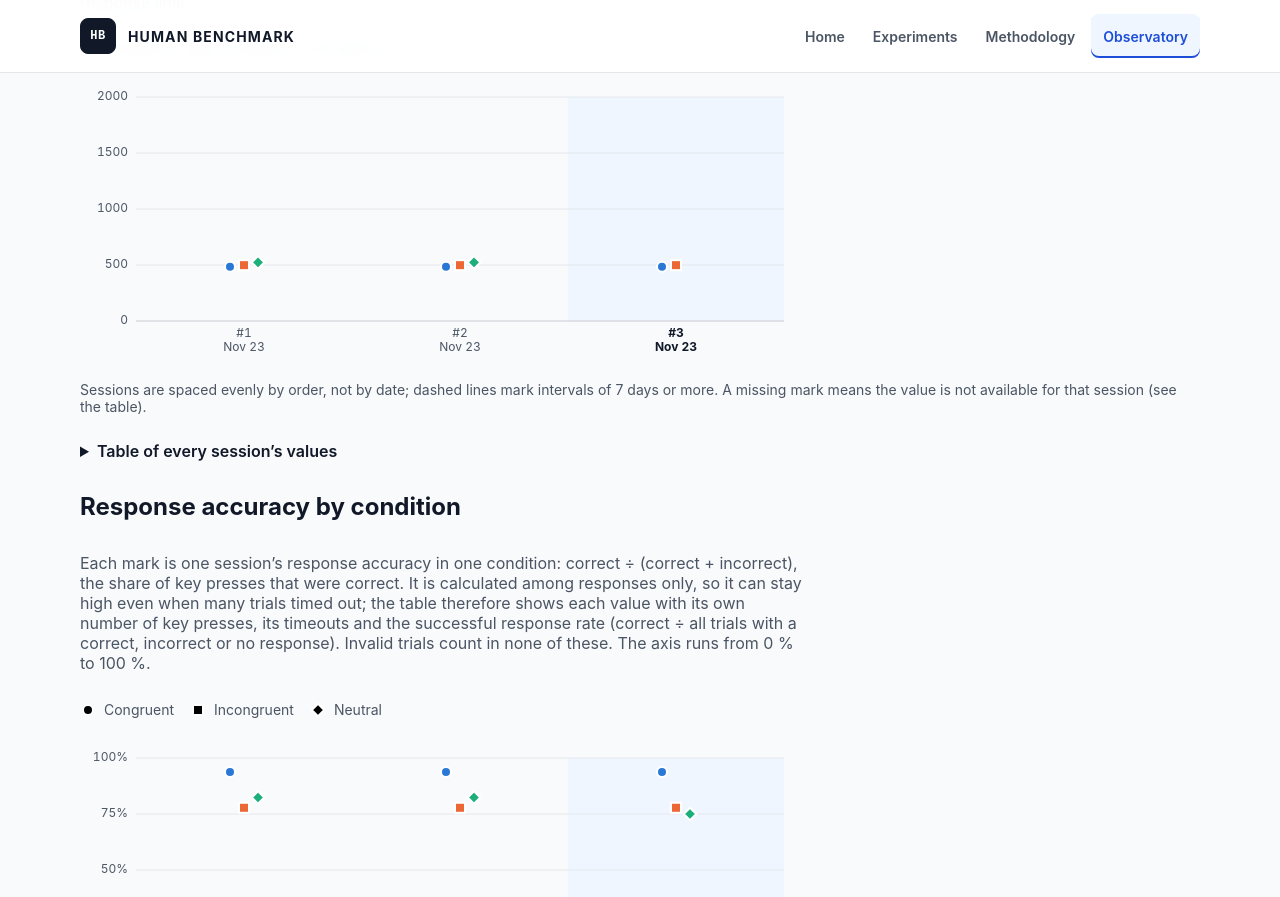
Test case: Trends: comparability › shows missing medians as not shown, never as values
The width and height of the screenshot is (1280, 897).
(page scrolled)
Click the heading "Table of every session’s values" at (217, 451), box [97,441,337,461]
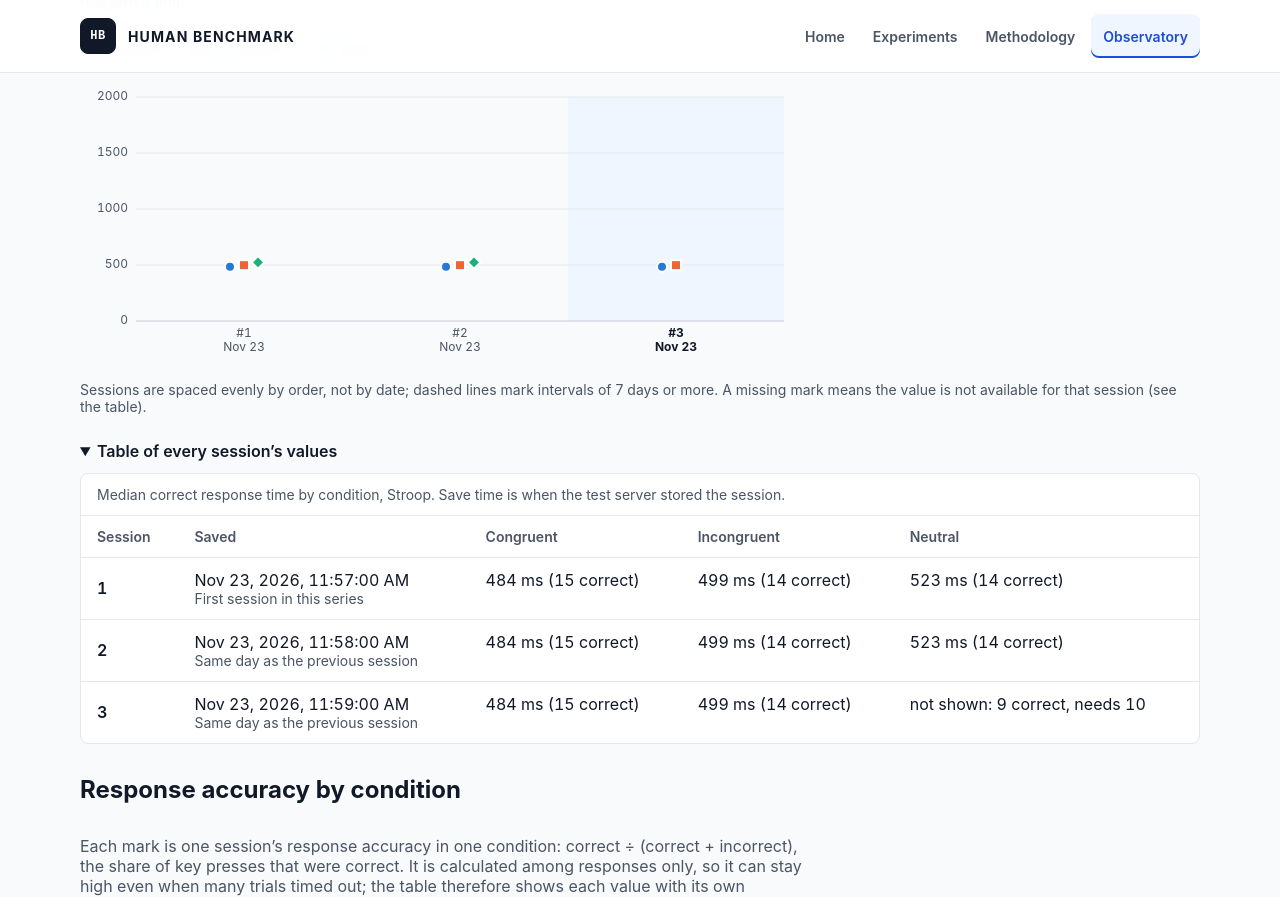
Check: the text "not shown: 9 correct, needs 10" is shown 2 times
